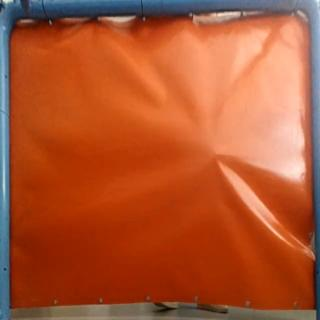Hit-hRxx: (209, 148, 229, 162)
